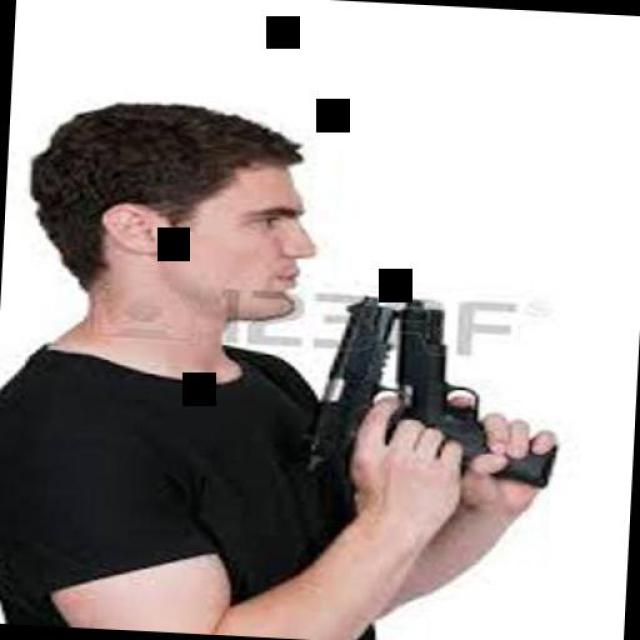gun: (387, 299, 562, 489), (292, 291, 406, 480)
